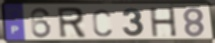3: (121, 7, 145, 38)
6: (30, 7, 53, 40)
8: (182, 6, 206, 38)
C: (91, 8, 113, 38)
H: (148, 7, 179, 38)
R: (56, 6, 88, 40)
